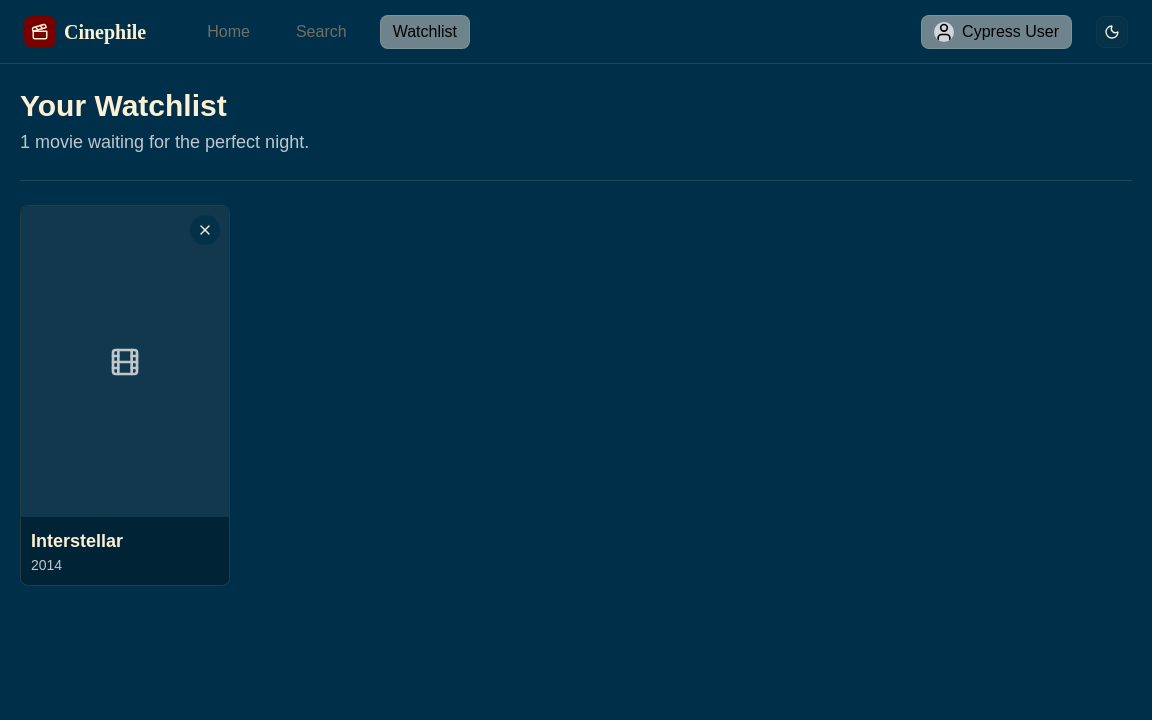
Test: Watchlist › renders the watchlist, opens details, and removes an item
Check: the text "1 movie waiting for the perfect night." is shown, box [20,132,309,152]
Check: the link "Interstellar 2014" is shown, box [21,206,229,585]
Click the button named "Remove from watchlist". click: (205, 230)
box: [189,214,221,246]
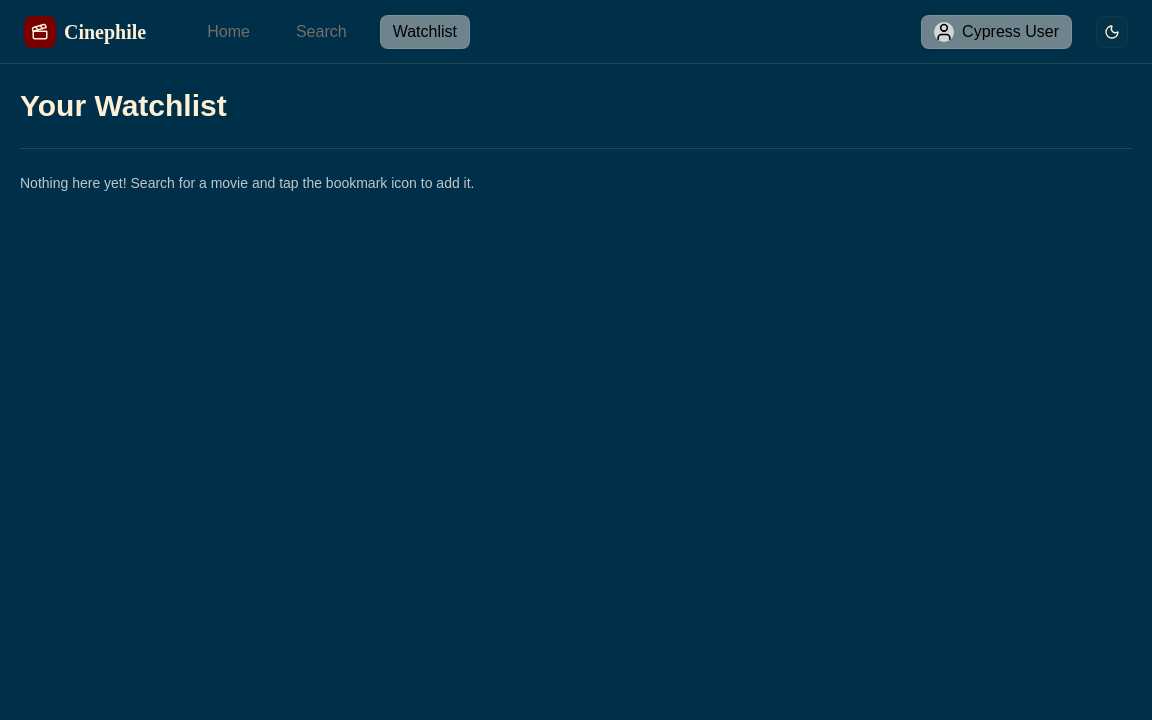
Check: the text "Nothing here yet!" is shown, box [20,175,474,191]
